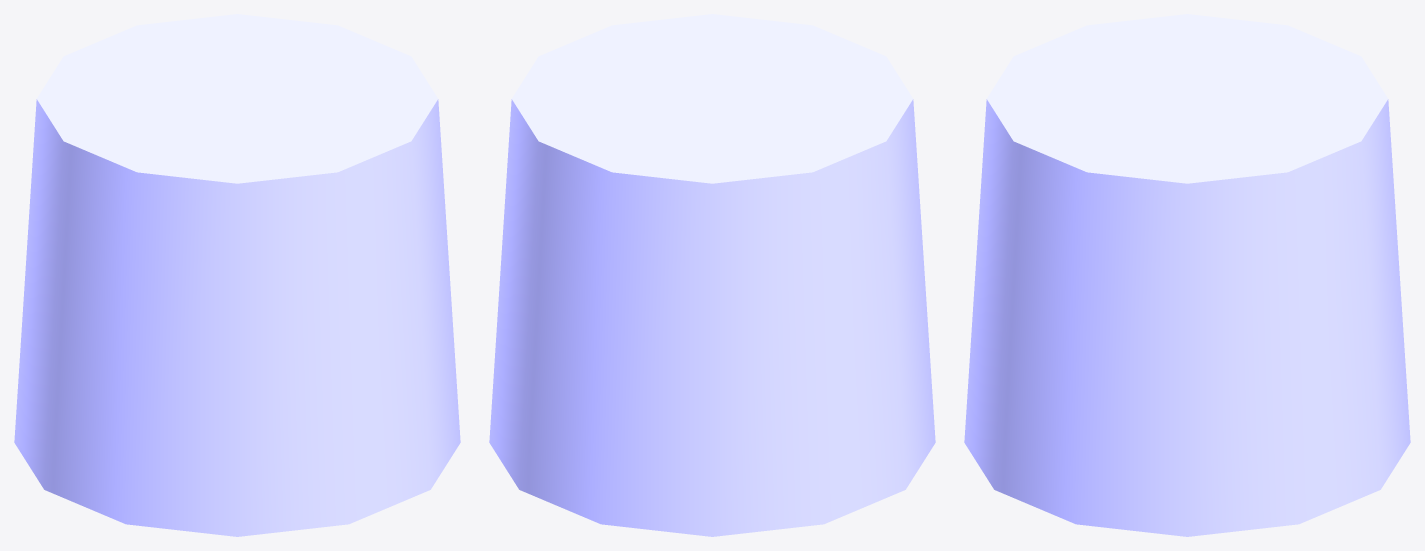
File: oil.glb
3 renders of one model, left to right at view 1: azimuth 30°, elevation 25°; view 2: azimuth 150°, elevation 25°; view 3: azimuth 270°, elevation 25°, orthographic.
Parts seen in each view (by area): view 1: oil; view 2: oil; view 3: oil.
Boxes of the visible parts, box(x1,y1,x2,y2) form: oil: box(14, 14, 460, 536); oil: box(489, 14, 935, 536); oil: box(964, 14, 1410, 536).
Bounding box in the file's own units: 1 × 0.85 × 1.
